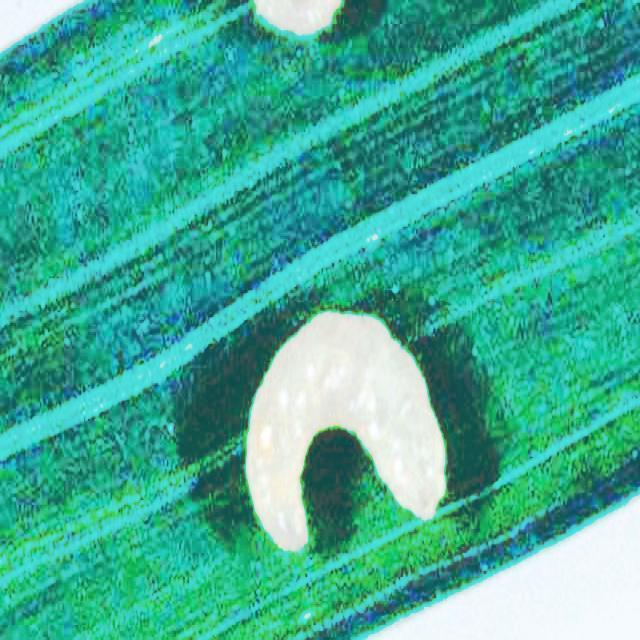whorl-maggot: (231, 294, 464, 564)
